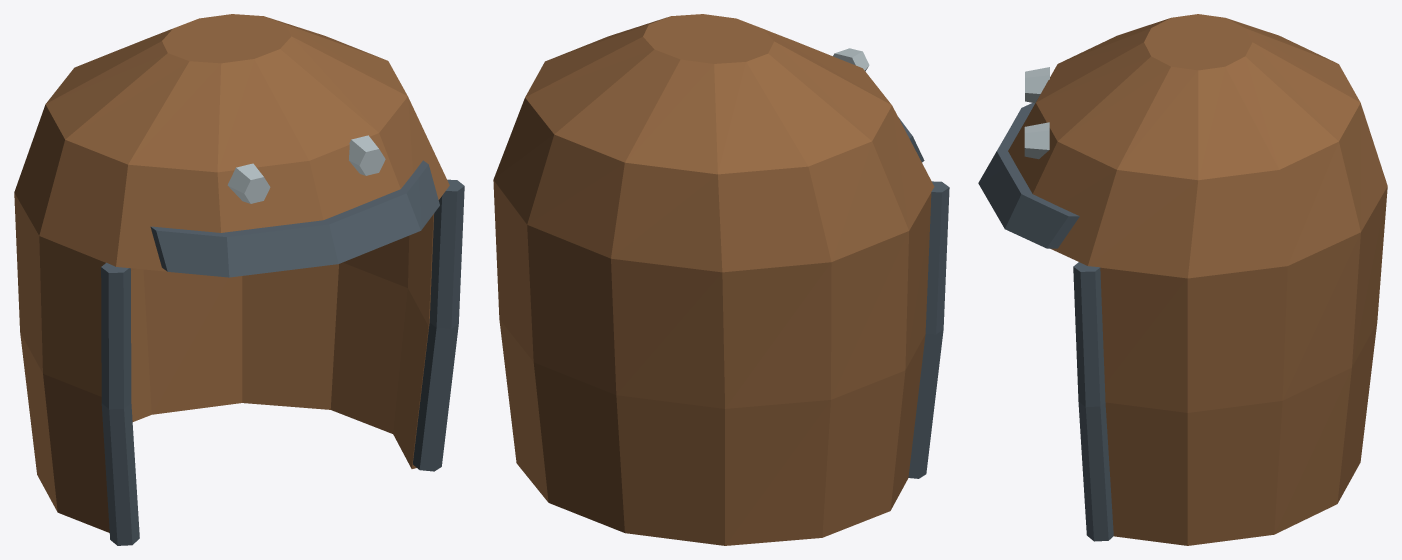
Rendered from studded_head-male.glb.
3 views of the same model, side by side, from view 1: azimuth 30°, elevation 25°; view 2: azimuth 150°, elevation 25°; view 3: azimuth 270°, elevation 25° (orthographic). The views are drawn at different scales.
Visible parts, largest first — view 1: studded joined crown and nape guard, Fitted brow binding, Bound face opening -1, Bound face opening 1, Set rivet studded joined crown and nape guard -1, Set rivet studded joined crown and nape guard 1; view 2: studded joined crown and nape guard, Bound face opening -1; view 3: studded joined crown and nape guard, Bound face opening 1, Fitted brow binding, Set rivet studded joined crown and nape guard 1, Set rivet studded joined crown and nape guard -1.
Part boxes in pixels (x1,y1,x2,y2): studded joined crown and nape guard: (14, 14, 449, 532); Fitted brow binding: (150, 160, 439, 277); Bound face opening -1: (101, 262, 139, 545); Bound face opening 1: (413, 179, 464, 471); Set rivet studded joined crown and nape guard -1: (227, 163, 270, 203); Set rivet studded joined crown and nape guard 1: (349, 135, 385, 175); studded joined crown and nape guard: (493, 14, 934, 545); Bound face opening -1: (908, 181, 949, 478); studded joined crown and nape guard: (1008, 14, 1387, 545); Bound face opening 1: (1073, 262, 1113, 541); Fitted brow binding: (978, 103, 1079, 248); Set rivet studded joined crown and nape guard 1: (1024, 122, 1049, 159); Set rivet studded joined crown and nape guard -1: (1025, 67, 1049, 103).
Bounding box in the file's own units: 1.05 × 1.12 × 0.9806.
